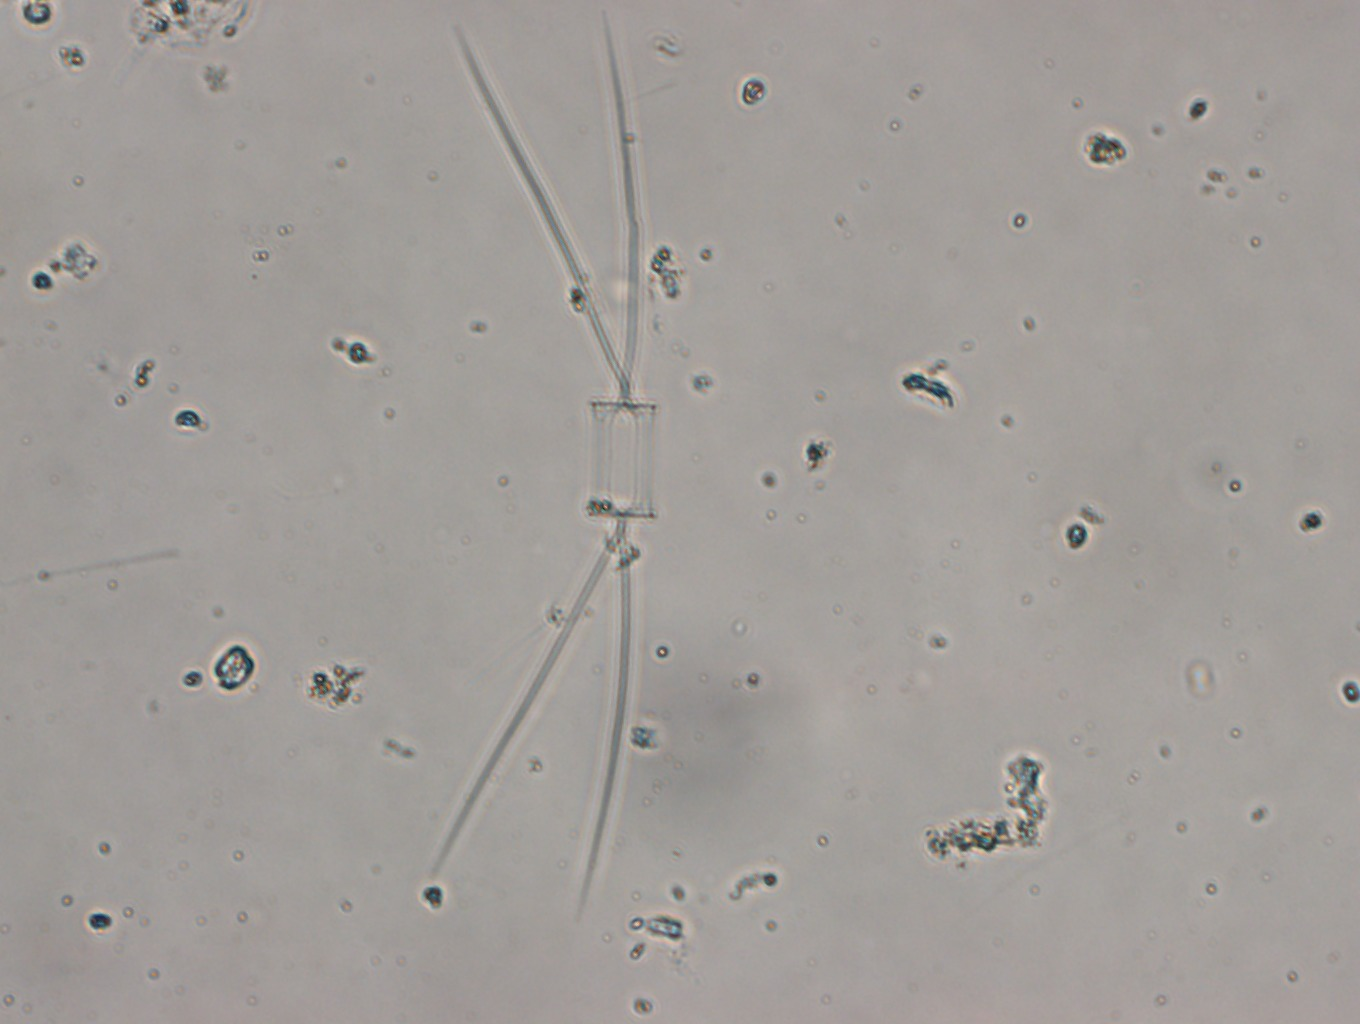chaetoceros: (425, 2, 658, 924)
